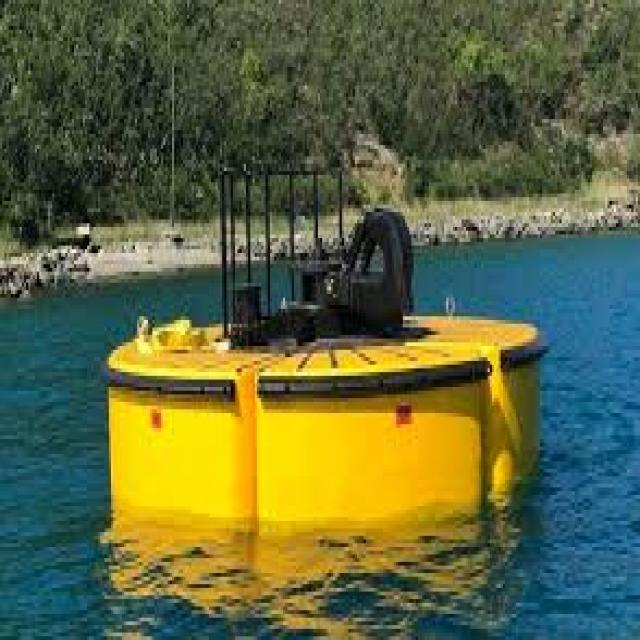marque: (88, 133, 549, 552)
